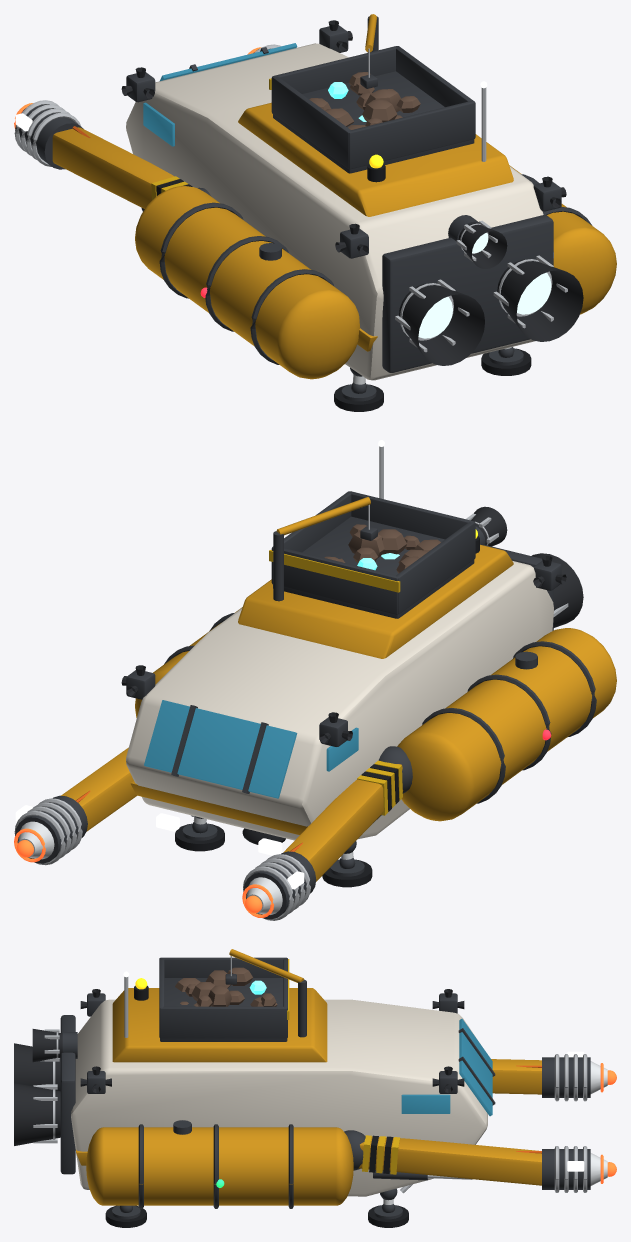
Rendered from miner.glb.
3 renders of one model, top to bottom at view 1: azimuth 30°, elevation 25°; view 2: azimuth 150°, elevation 25°; view 3: azimuth 270°, elevation 25°, orthographic. The views are drawn at different scales.
Parts seen in each view (by area): view 1: MinerHull; view 2: MinerHull; view 3: MinerHull.
Part boxes in pixels (x1,y1,x2,y2): MinerHull: [14, 14, 616, 411]; MinerHull: [14, 440, 616, 920]; MinerHull: [14, 949, 616, 1227].
Bounding box in the file's own units: 8.87 × 7.09 × 16.1.
